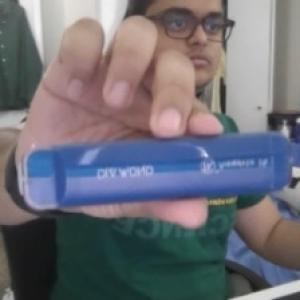Diamond-E-Ciggirate: (13, 127, 300, 216)
